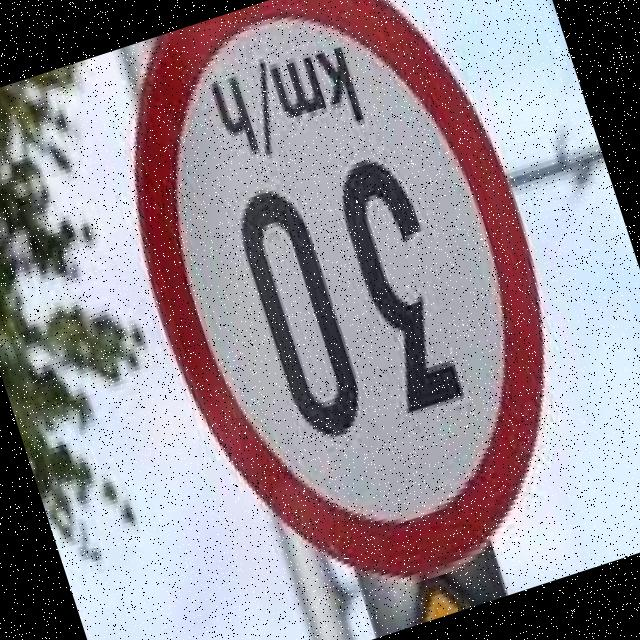speed_limit_30: (77, 0, 628, 640)
